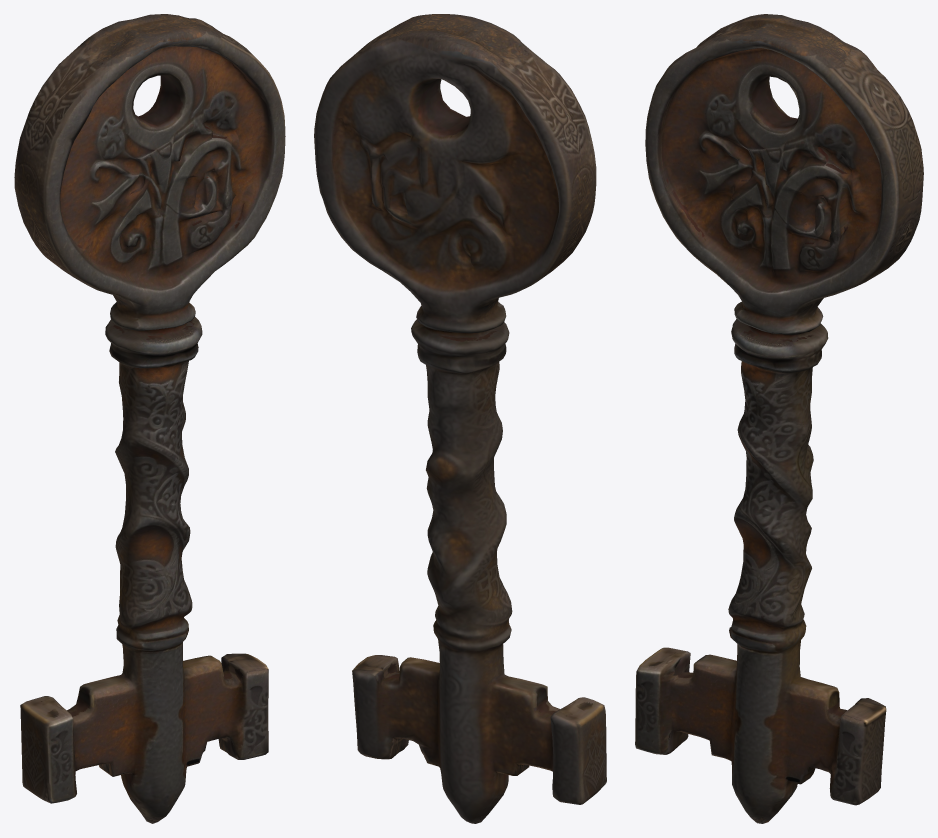
The model's file is Bronze_Key.glb.
The picture shows the model from 3 angles, left to right: view 1: azimuth 30°, elevation 25°; view 2: azimuth 150°, elevation 25°; view 3: azimuth 330°, elevation 25°; orthographic projection.
Bounding box in the file's own units: 0.6775 × 2 × 0.2103.
1 material, 1 textured.
